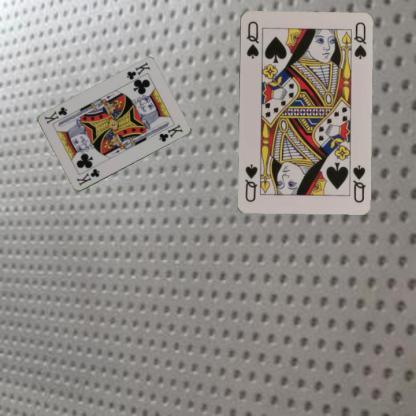Kc: (124, 60, 152, 82), (74, 166, 100, 188)
Qs: (243, 18, 260, 60), (350, 162, 367, 203)
